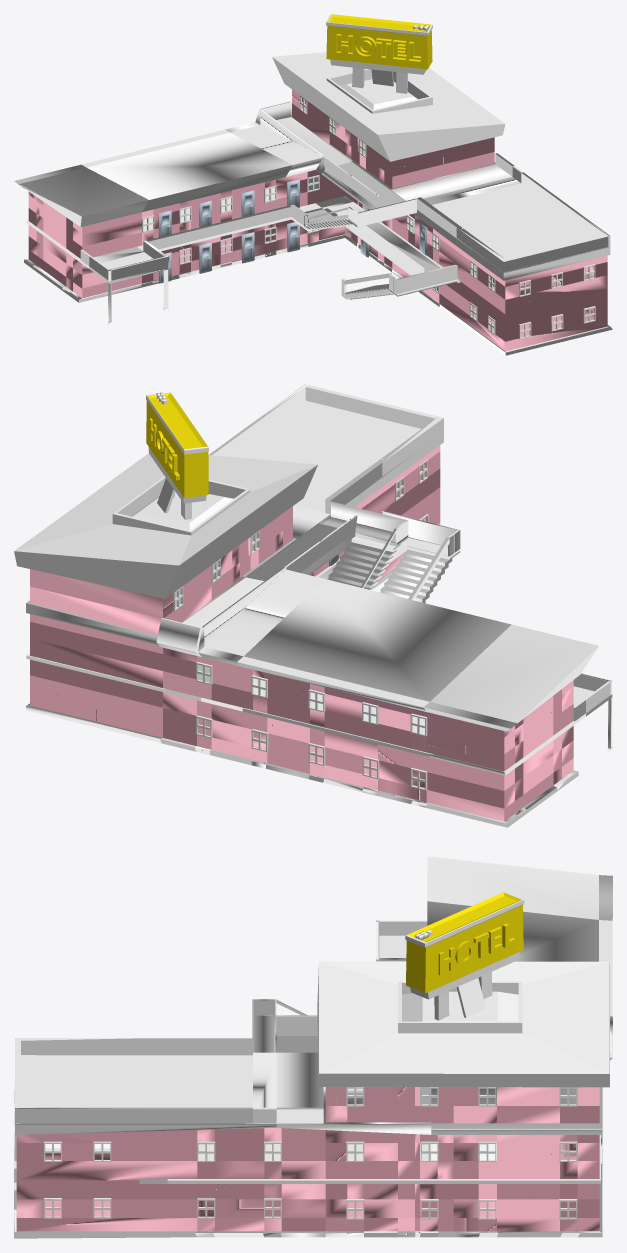
Rendered from hotel.glb.
3 renders of one model, top to bottom at view 1: azimuth 30°, elevation 25°; view 2: azimuth 150°, elevation 25°; view 3: azimuth 270°, elevation 25°, orthographic. The views are drawn at different scales.
Visible parts, largest first — view 1: Cube_7_85; view 2: Cube_7_85; view 3: Cube_7_85.
Part boxes in pixels (x1=…): Cube_7_85: x1=14, y1=14, x2=612, y2=355; Cube_7_85: x1=14, y1=384, x2=612, y2=827; Cube_7_85: x1=14, y1=856, x2=612, y2=1238.
Bounding box in the file's own units: 10.23 × 5.22 × 10.11.
